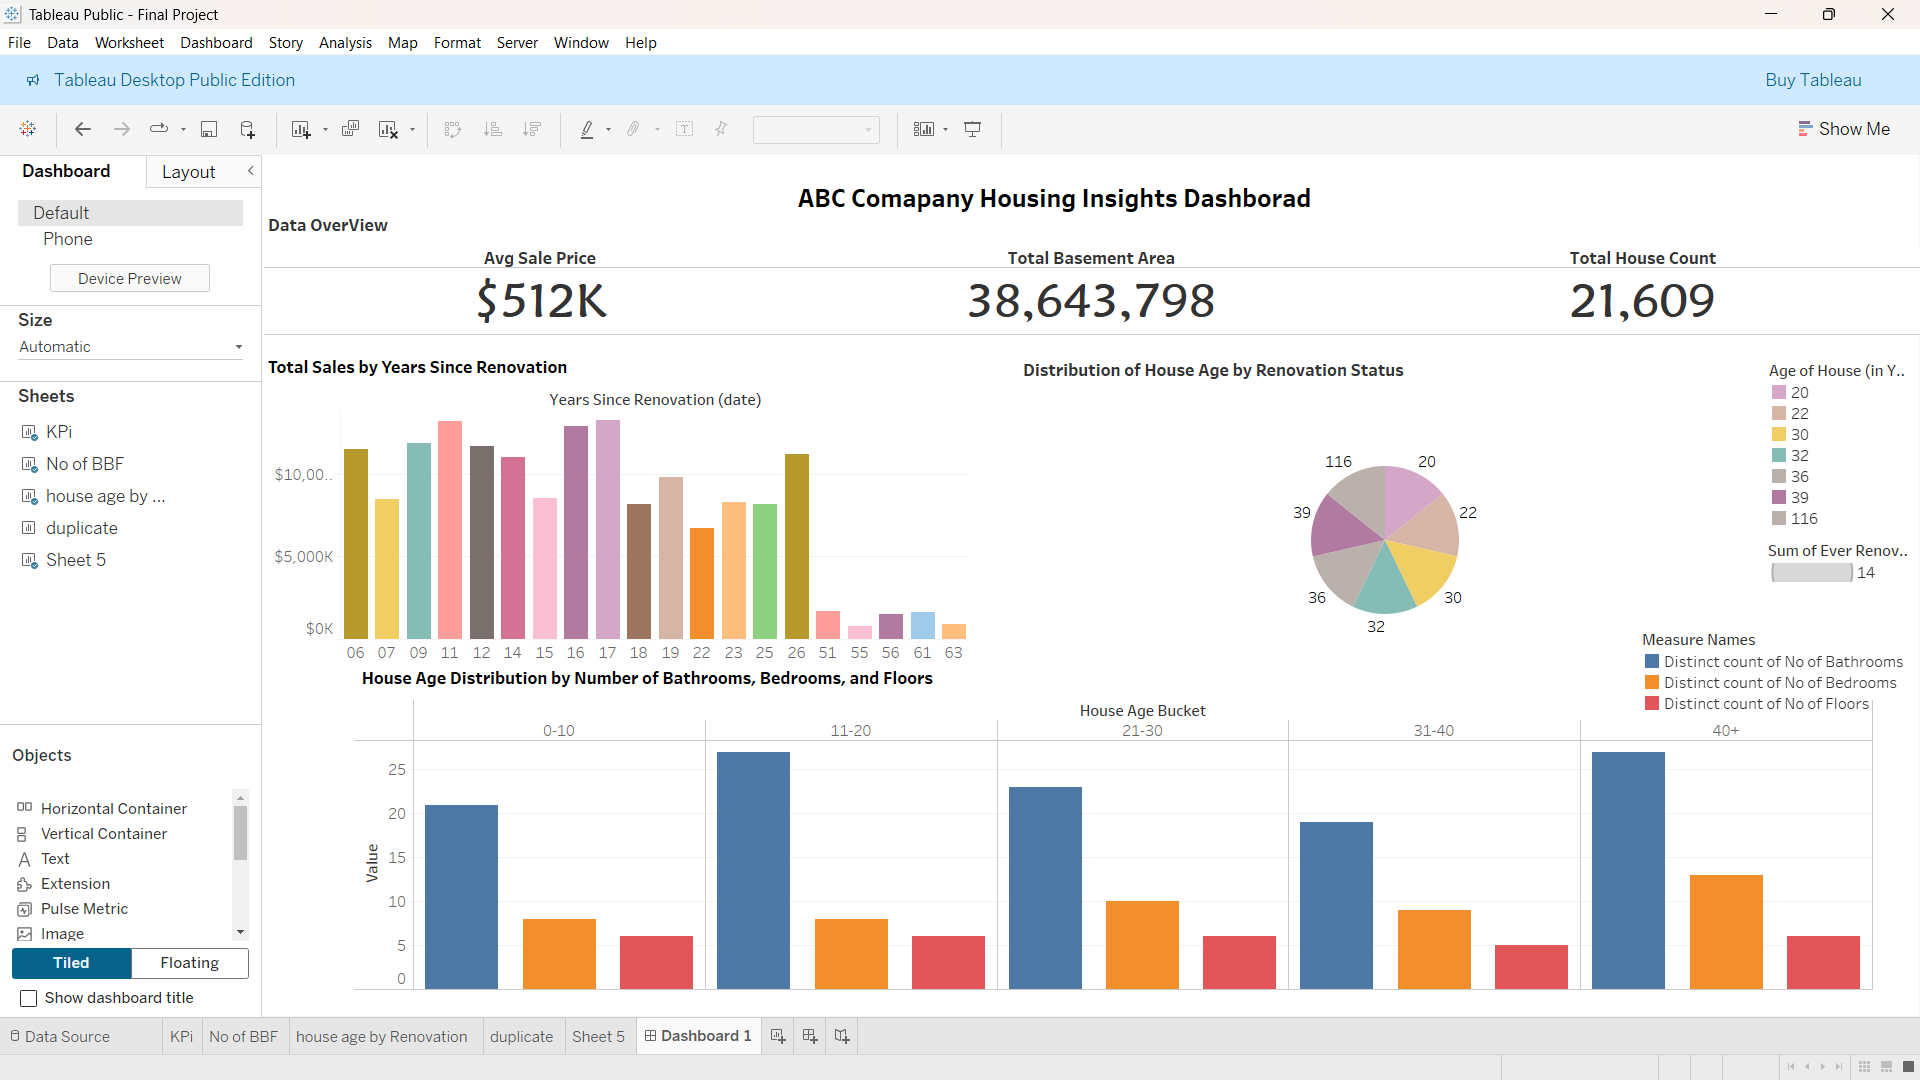

The dashboard page shown, as its layout file describes it:
{"tool":"tableau","page":{"name":"Dashboard 1","canvas":[1000,1000],"units":"permille","ordinal":0},"visuals":[{"type":"text","box":[272.8,7,411,83.6]},{"type":"worksheet","title":"KPi","mark":"Automatic","box":[1.2,62.7,999.4,146.3]},{"type":"worksheet","title":"Sheet 5","mark":"Bar","rows":["Calculation_1490128553071116288"],"cols":["Years Since Renovation (date)"],"box":[1.2,227.6,426.1,363.5]},{"type":"worksheet","title":"house age by Renovation","mark":"Pie","box":[456.9,231.1,441.8,387.9]},{"type":"legend","title":"house age by Renovation","param":"[federated.0td6otg17enspr15j5v680narxoj].[none:Age of House (in Years):ok]","box":[909.5,238.1,84.5,196.3]},{"type":"legend","title":"house age by Renovation","param":"[federated.0td6otg17enspr15j5v680narxoj].[sum:Ever Renovated Yes:qk]","box":[908.9,447.2,84.5,49.9]},{"type":"legend","title":"No of BBF","param":"[federated.0td6otg17enspr15j5v680narxoj].[:Measure Names]","box":[861.2,580.7,138.8,98.7]},{"type":"worksheet","title":"No of BBF","mark":"Automatic","cols":["Calculation_1163336105844719616"],"box":[55.5,588.9,916.7,380.9]}]}

Visuals, with their boxes on the dashboard's canvas, which has no fixed pixel size, in thousandths of its width and height (x1, y1, x2, y2). These are canvas units, not pixel positions in the 1920x1080 screenshot, which may show the page scaled, cropped or inside an application window:
text: (x1=273, y1=7, x2=684, y2=91)
"KPi" worksheet: (x1=1, y1=63, x2=1001, y2=209)
"Sheet 5" worksheet (Bar marks): (x1=1, y1=228, x2=427, y2=591)
"house age by Renovation" worksheet (Pie marks): (x1=457, y1=231, x2=899, y2=619)
"house age by Renovation" legend: (x1=910, y1=238, x2=994, y2=434)
"house age by Renovation" legend: (x1=909, y1=447, x2=993, y2=497)
"No of BBF" legend: (x1=861, y1=581, x2=1000, y2=679)
"No of BBF" worksheet: (x1=56, y1=589, x2=972, y2=970)
